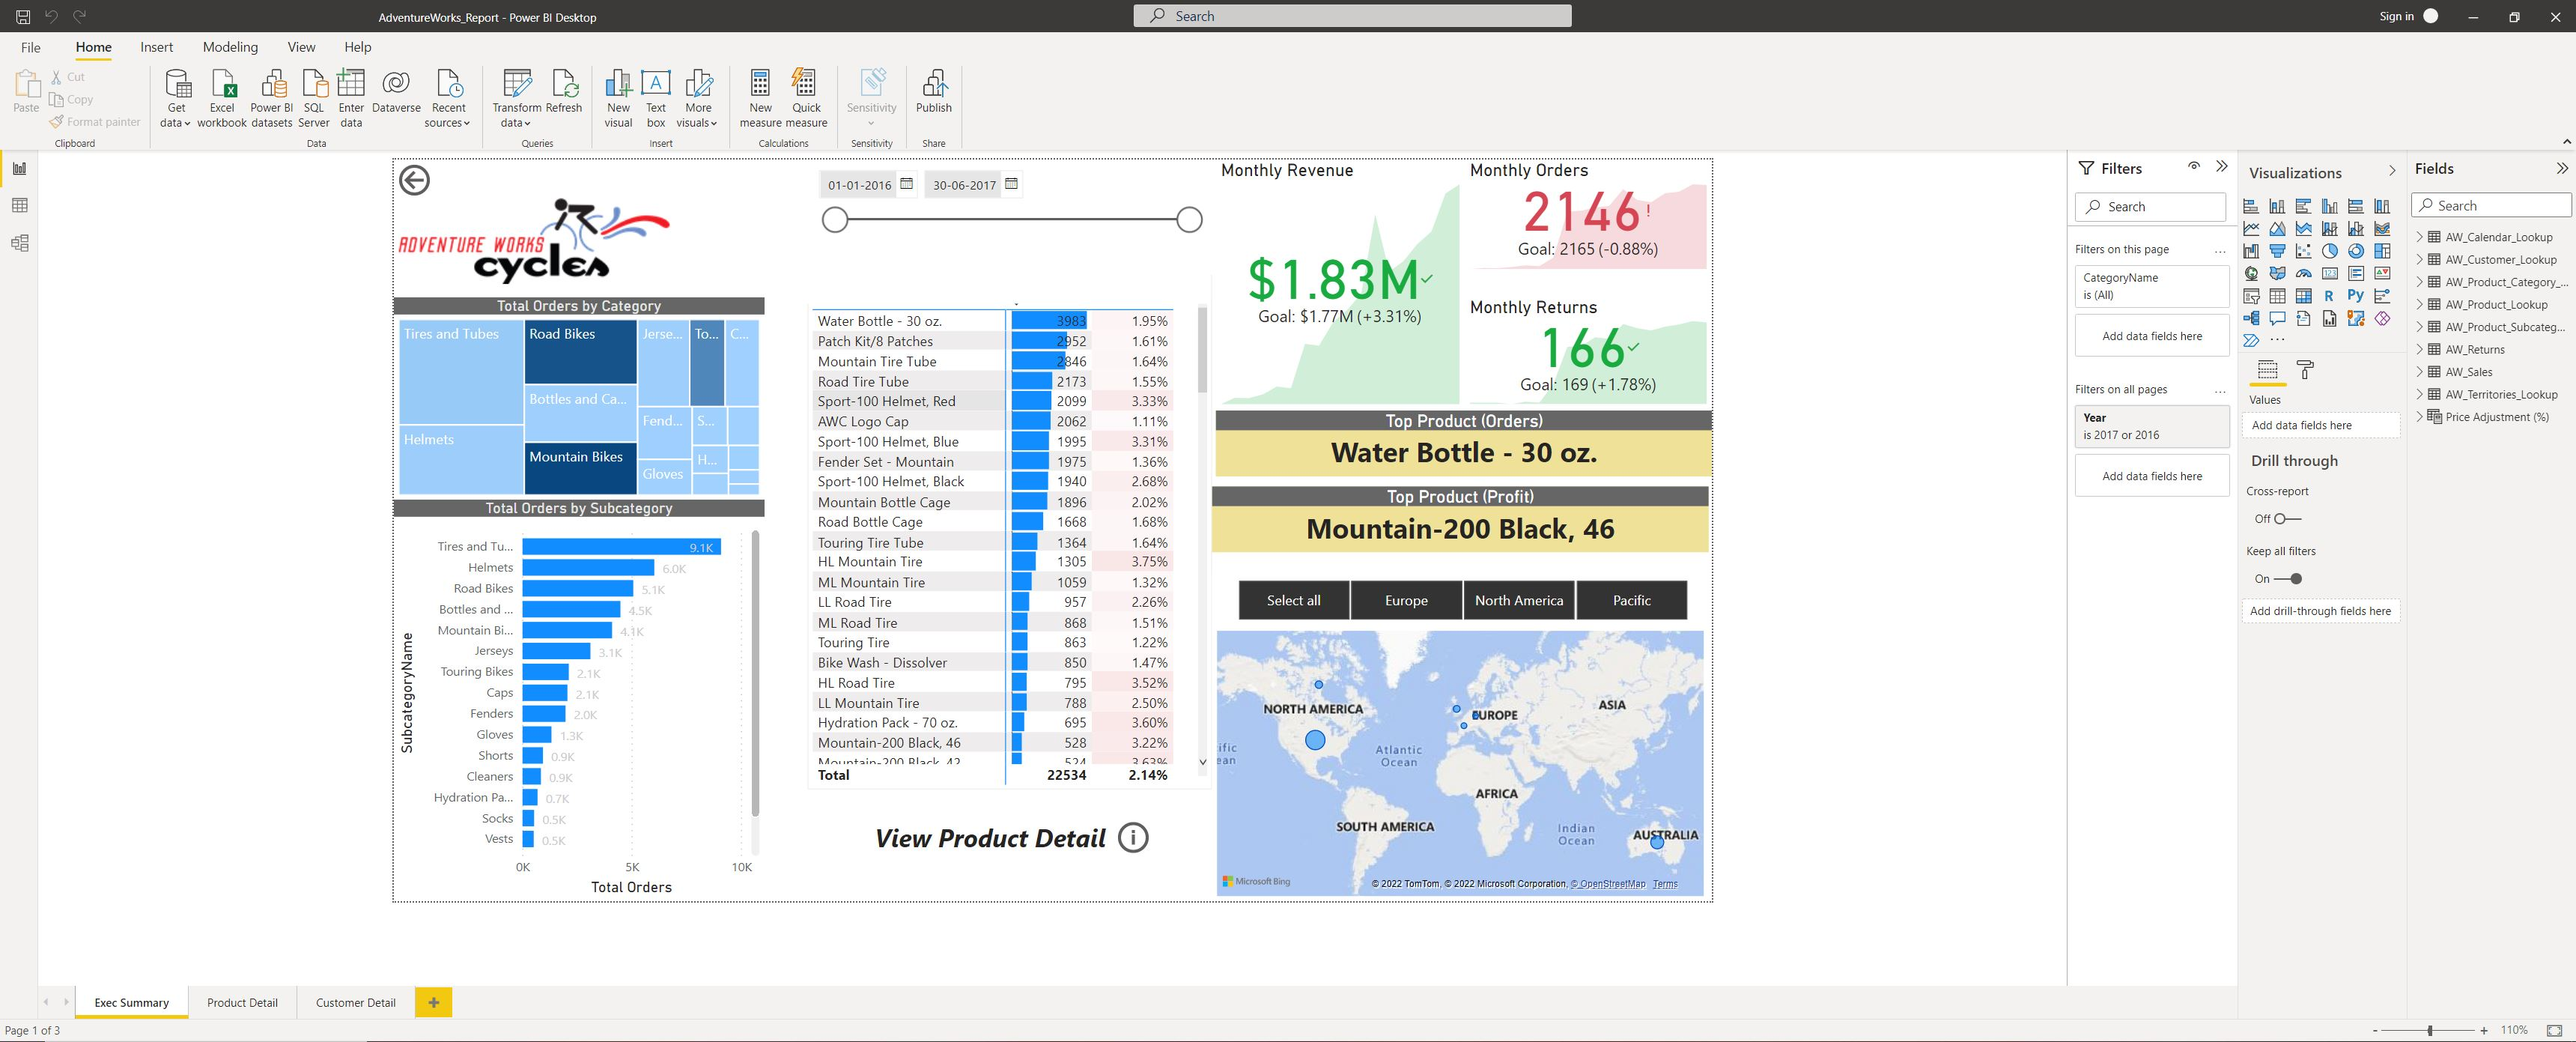

Layout of this report page (visuals, bound fields, positions):
{"tool":"powerbi","page":{"name":"Exec Summary","canvas":[1280,720],"ordinal":0},"visuals":[{"type":"image","box":[0,0,275,158.3],"z":0},{"type":"barChart","title":"Total Orders by Subcategory","fields":{"Y":["AW_Sales.Total Orders"],"Category":["AW_Product_Subcategory_Lookup.SubcategoryName"]},"box":[0,330,360,390],"z":1000},{"type":"actionButton","box":[0,0,100,40],"z":2000},{"type":"treemap","title":"Total Orders by Category","fields":{"Group":["AW_Product_Category_Lookup.CategoryName","AW_Product_Subcategory_Lookup.SubcategoryName"],"Values":["AW_Sales.Total Orders"]},"box":[0,133.3,360,196.7],"z":3000},{"type":"pivotTable","fields":{"Values":["AW_Sales.Total Orders","AW_Returns.Return Rate"],"Rows":["AW_Product_Category_Lookup.CategoryName","AW_Product_Subcategory_Lookup.SubcategoryName","AW_Product_Lookup.ProductName"]},"box":[401.4,111.4,392.9,500],"z":4000},{"type":"slicer","fields":{"Values":["AW_Calendar_Lookup.Date"]},"box":[400,0,393.8,140],"z":5000},{"type":"kpi","title":"Monthly Revenue","fields":{"Indicator":["AW_Sales.Total Revenue"],"TrendLine":["AW_Calendar_Lookup.Start of Month"],"Goal":["AW_Sales.Prev Month Revenue"]},"box":[798.6,0,241.4,242.9],"z":6000},{"type":"kpi","title":"Monthly Orders","fields":{"TrendLine":["AW_Calendar_Lookup.Start of Month"],"Goal":["AW_Sales.Prev Month Orders"],"Indicator":["AW_Sales.Total Orders"]},"box":[1040,0,240,111.4],"z":7000},{"type":"kpi","title":"Monthly Returns","fields":{"TrendLine":["AW_Calendar_Lookup.Start of Month"],"Goal":["AW_Returns.Prev Month Returns"],"Indicator":["AW_Returns.Total Returns"]},"box":[1040,132.9,240,110],"z":8000},{"type":"card","title":"Top Product (Orders)","fields":{"Values":["Min(AW_Product_Lookup.ProductName)"]},"box":[798,243.5,482.5,63.8],"z":9000},{"type":"card","title":"Top Product (Profit)","fields":{"Values":["Min(AW_Product_Lookup.ProductName)"]},"box":[794.3,317.3,482.5,63.8],"z":10000},{"type":"map","fields":{"Category":["AW_Territories_Lookup.Country"],"Size":["AW_Sales.Total Orders"]},"box":[794.3,452.9,482.9,267.1],"z":11000},{"type":"slicer","fields":{"Values":["AW_Territories_Lookup.Continent"]},"box":[794.3,401.4,485.7,51.4],"z":12000},{"type":"textbox","box":[461.4,637.1,300,82.9],"z":13000},{"type":"actionButton","box":[698.6,638.6,100,40],"z":14000}]}

Visuals, with their boxes on the page's 1280x720 design canvas (x1, y1, x2, y2). These are canvas units, not pixel positions in the 2576x1042 screenshot, which may show the page scaled, cropped or inside an application window:
image: <bbox>0, 0, 275, 158</bbox>
"Total Orders by Subcategory" barChart: <bbox>0, 330, 360, 720</bbox>
actionButton: <bbox>0, 0, 100, 40</bbox>
"Total Orders by Category" treemap: <bbox>0, 133, 360, 330</bbox>
pivotTable - AW_Sales.Total Orders x AW_Returns.Return Rate: <bbox>401, 111, 794, 611</bbox>
slicer - AW_Calendar_Lookup.Date: <bbox>400, 0, 794, 140</bbox>
"Monthly Revenue" kpi: <bbox>799, 0, 1040, 243</bbox>
"Monthly Orders" kpi: <bbox>1040, 0, 1280, 111</bbox>
"Monthly Returns" kpi: <bbox>1040, 133, 1280, 243</bbox>
"Top Product (Orders)" card: <bbox>798, 244, 1280, 307</bbox>
"Top Product (Profit)" card: <bbox>794, 317, 1277, 381</bbox>
map - AW_Territories_Lookup.Country x AW_Sales.Total Orders: <bbox>794, 453, 1277, 720</bbox>
slicer - AW_Territories_Lookup.Continent: <bbox>794, 401, 1280, 453</bbox>
textbox: <bbox>461, 637, 761, 720</bbox>
actionButton: <bbox>699, 639, 799, 679</bbox>
